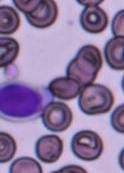L: (0, 80, 52, 122)
